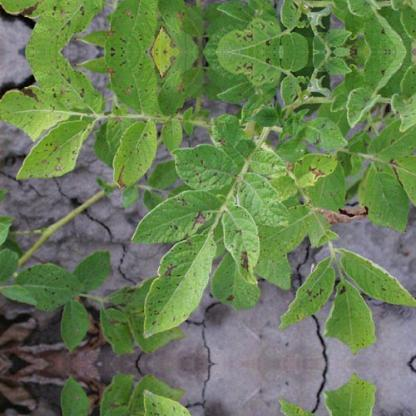Early-Blight: (0, 52, 416, 354), (286, 239, 416, 353), (178, 103, 296, 224), (138, 226, 226, 338), (209, 195, 276, 289), (3, 252, 93, 318), (286, 375, 415, 416), (16, 114, 96, 180), (28, 54, 102, 114), (110, 113, 167, 188), (28, 0, 102, 50), (138, 390, 225, 416)
